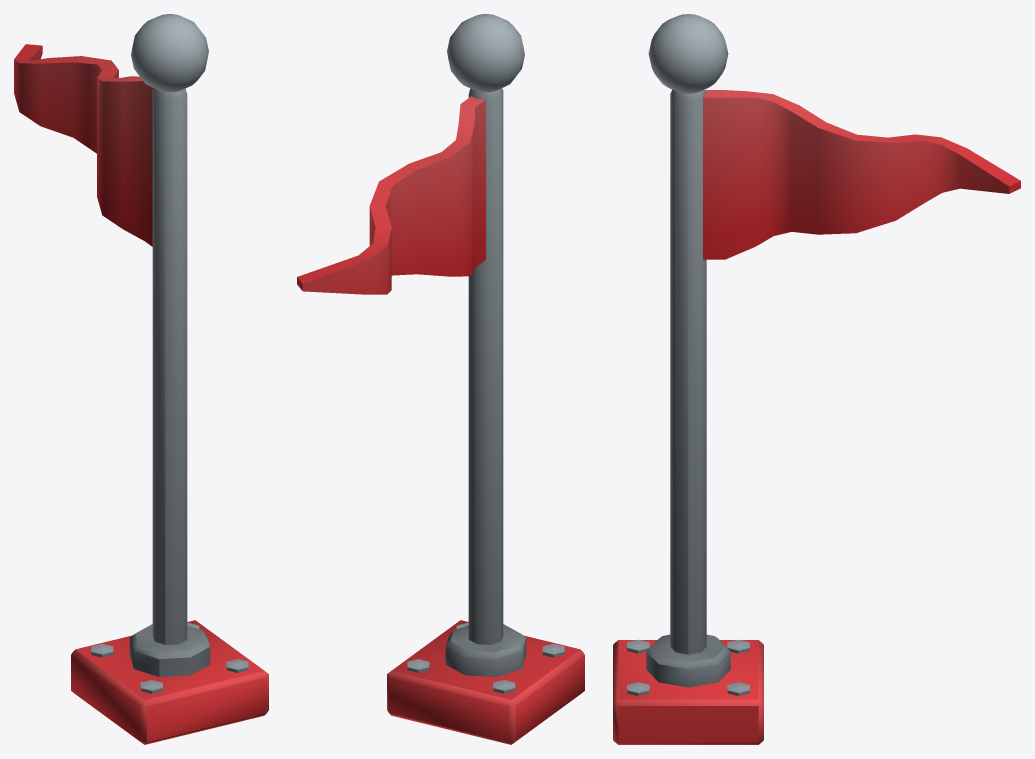
The model's file is flag_B_red.glb.
3 renders of one model, left to right at view 1: azimuth 30°, elevation 25°; view 2: azimuth 150°, elevation 25°; view 3: azimuth 270°, elevation 25°, orthographic.
Visible parts, largest first — view 1: flag_B_red; view 2: flag_B_red; view 3: flag_B_red.
Boxes of the visible parts, bbox=[...] form: flag_B_red: bbox=[14, 14, 268, 744]; flag_B_red: bbox=[297, 14, 584, 744]; flag_B_red: bbox=[613, 14, 1020, 744].
Bounding box in the file's own units: 0.6 × 3.06 × 1.62.
Materials: 1 (1 with a texture image).
